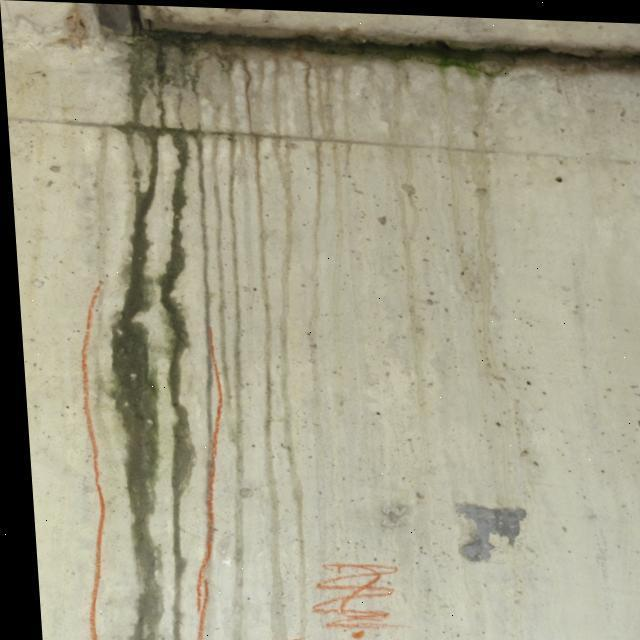D10: (458, 502, 525, 560)
